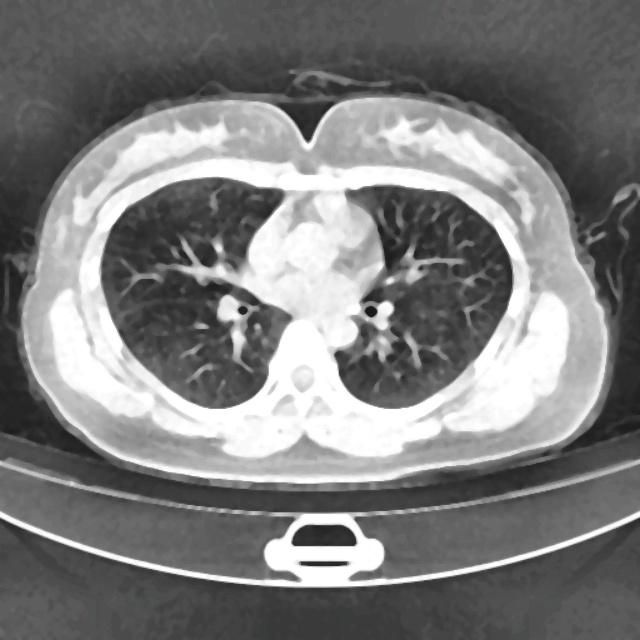covid: (17, 85, 614, 489)
